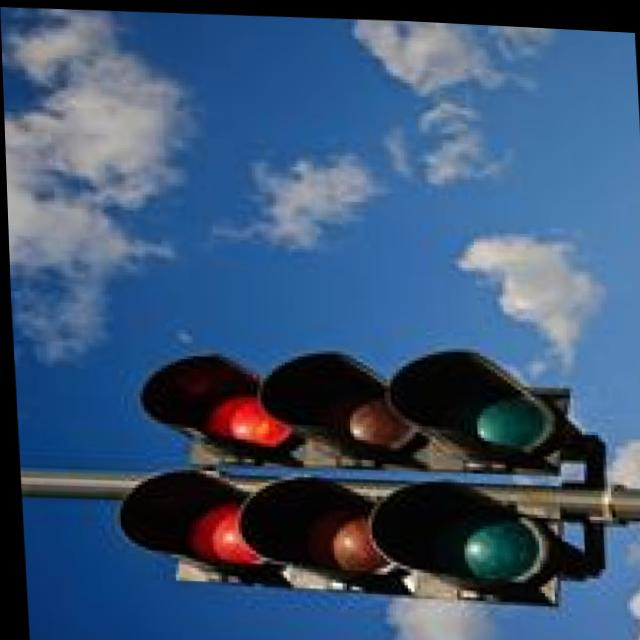red_light: (138, 458, 296, 599), (180, 354, 296, 497)
